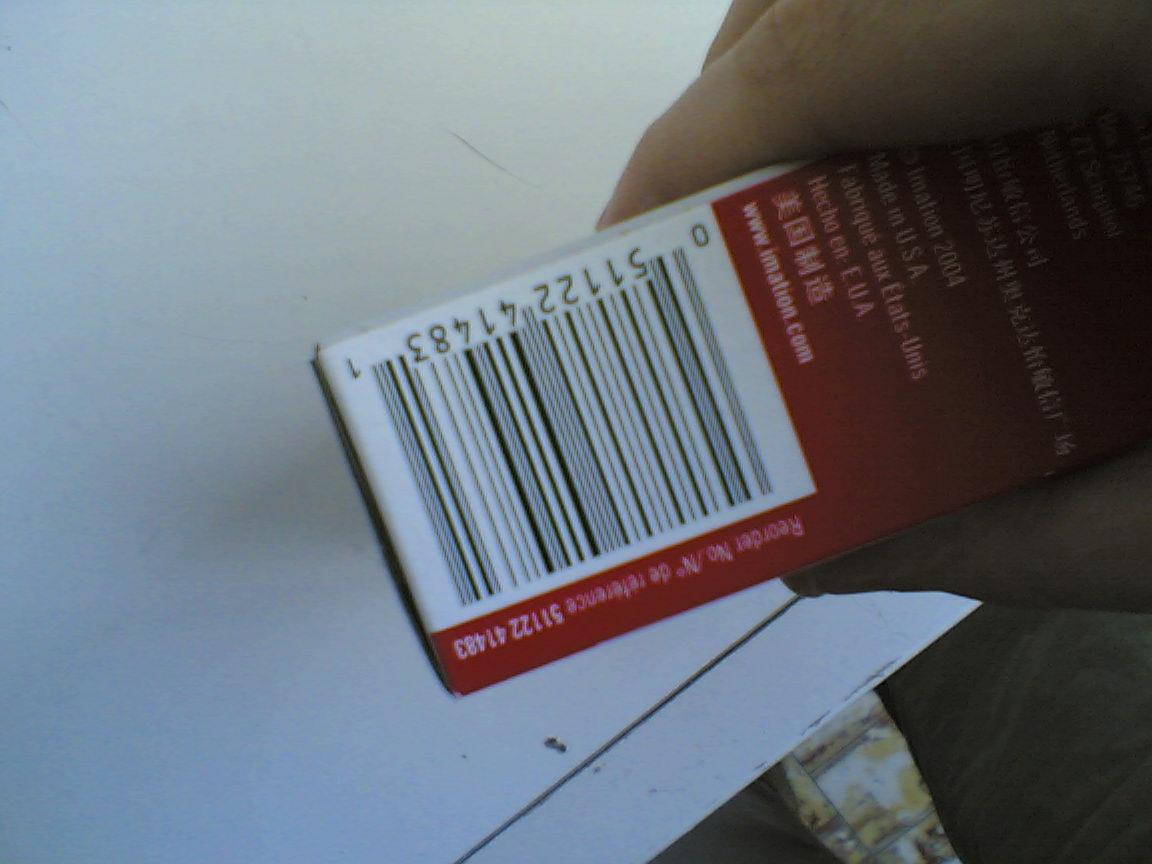Barcode: (337, 199, 783, 630)
